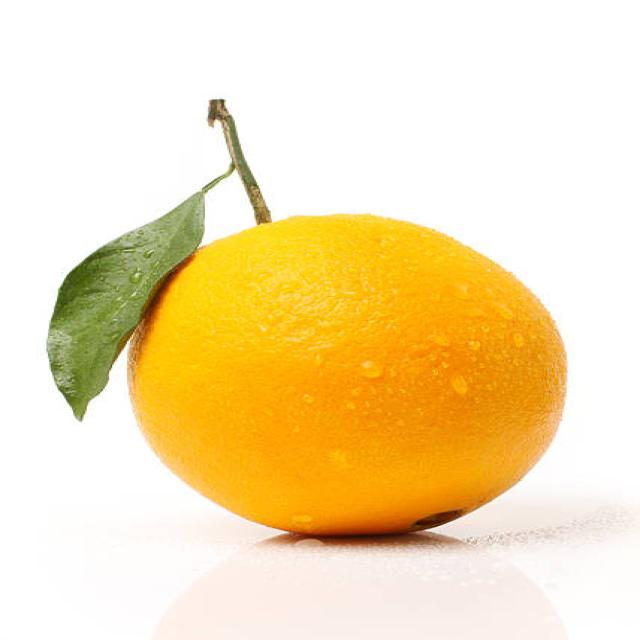Ripe: (105, 206, 573, 544)
